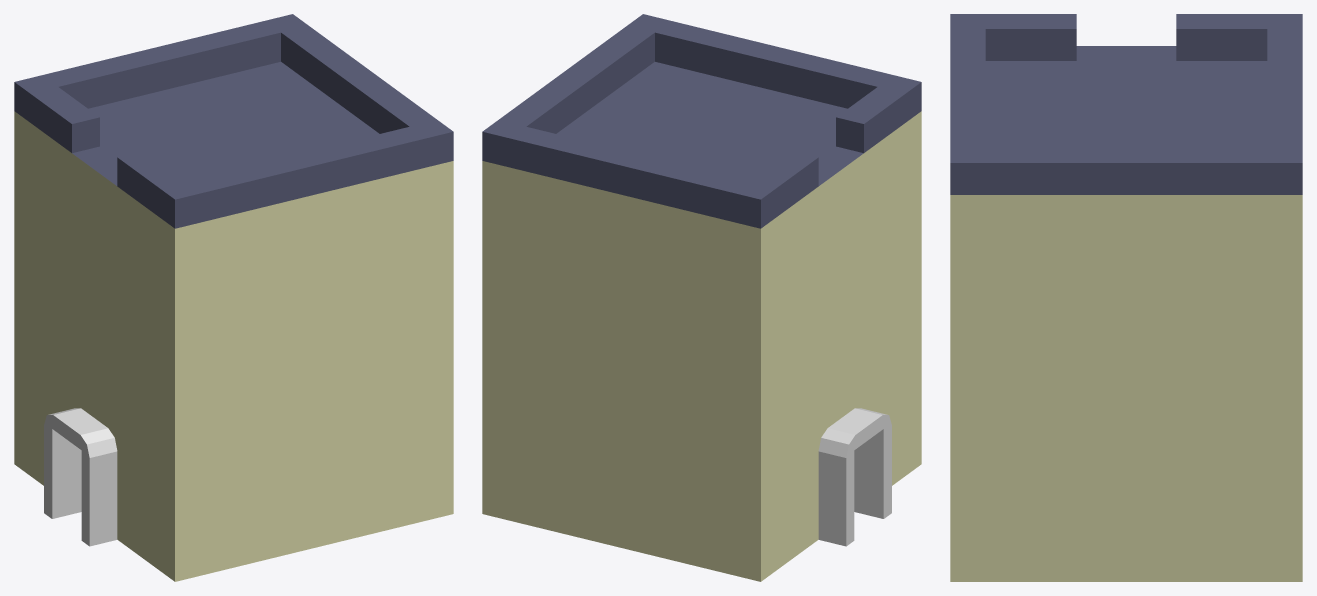
File: house.fbx
The picture shows the model from 3 angles, left to right: view 1: azimuth 30°, elevation 25°; view 2: azimuth 150°, elevation 25°; view 3: azimuth 270°, elevation 25°; orthographic projection. The views are drawn at different scales.
Visible parts, largest first — view 1: Cube.006; view 2: Cube.006; view 3: Cube.006.
Part boxes in pixels (left/top/right/bottom): Cube.006: left=14, top=14, right=453, bottom=581; Cube.006: left=482, top=14, right=921, bottom=581; Cube.006: left=950, top=14, right=1302, bottom=581.
Size of the model in its own units: 1100 by 1312 by 1000.
